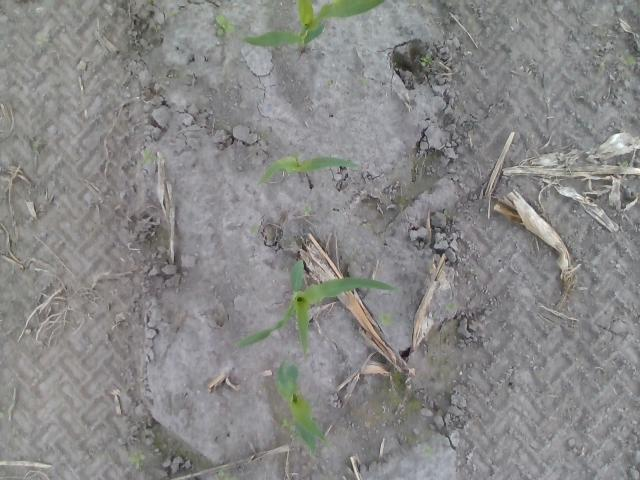Maize: (233, 260, 400, 358), (242, 0, 386, 52), (275, 357, 335, 458), (258, 151, 360, 185)
Weeds: (215, 14, 235, 35), (128, 450, 145, 470), (139, 148, 157, 166), (214, 469, 236, 480), (280, 416, 296, 431), (618, 54, 638, 66), (377, 312, 395, 324), (420, 54, 434, 66), (36, 34, 50, 45), (422, 445, 434, 457), (302, 204, 312, 216), (617, 160, 629, 170), (596, 61, 606, 71), (445, 301, 456, 310), (165, 9, 179, 16), (250, 223, 258, 234), (359, 76, 368, 84), (150, 0, 160, 5), (362, 222, 372, 227), (290, 432, 298, 438), (444, 209, 449, 217), (327, 77, 332, 84), (0, 411, 4, 419)
